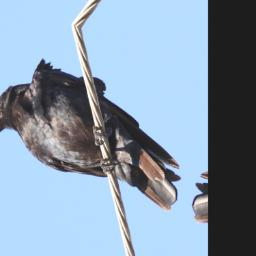Crow: (0, 43, 194, 217)
